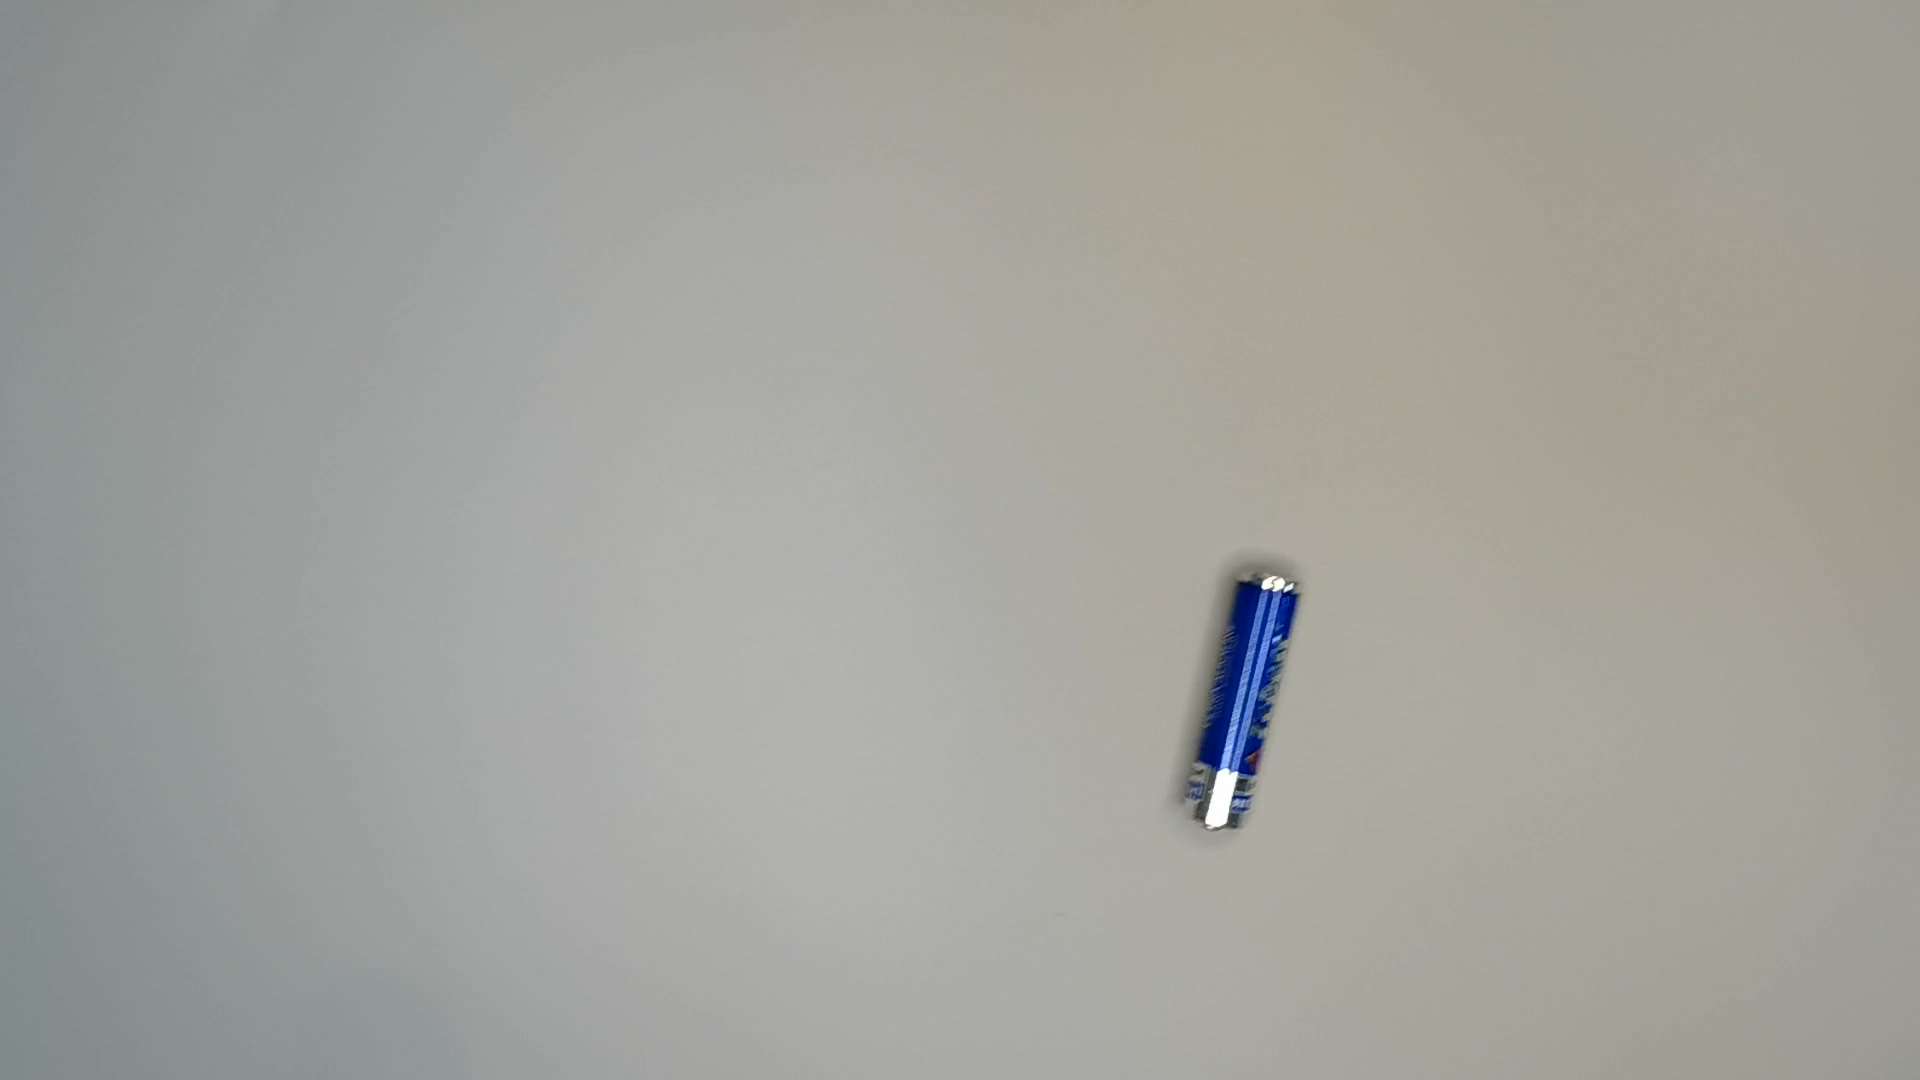battery: (1158, 564, 1319, 843)
